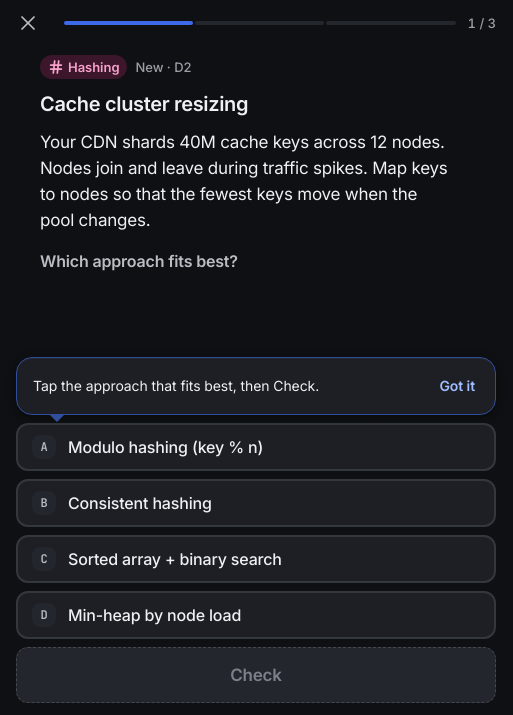
Scenario: Session: question › shows the CoachMark once and remembers dismissal in localStorage
The width and height of the screenshot is (513, 715).
Expected: the text "Tap the approach that fits best, then Check." is shown, [33, 377, 319, 394]
Click the button "Got it" at [457, 386], box [427, 366, 487, 406]
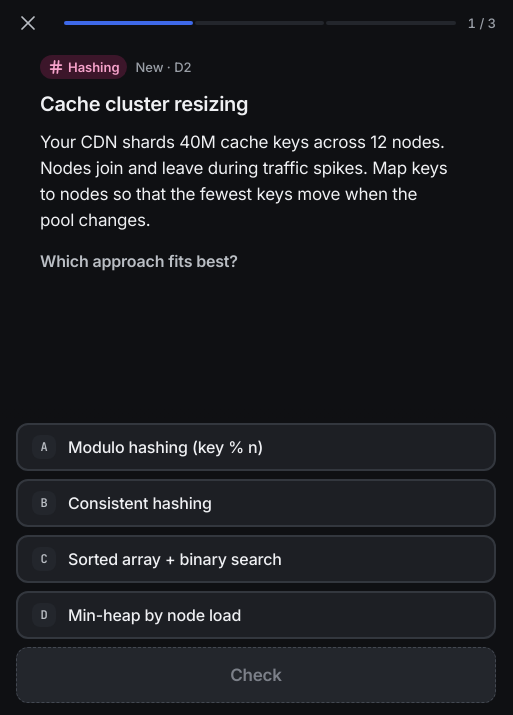
Expected: the text "Tap the approach that fits best, then Check." is gone
